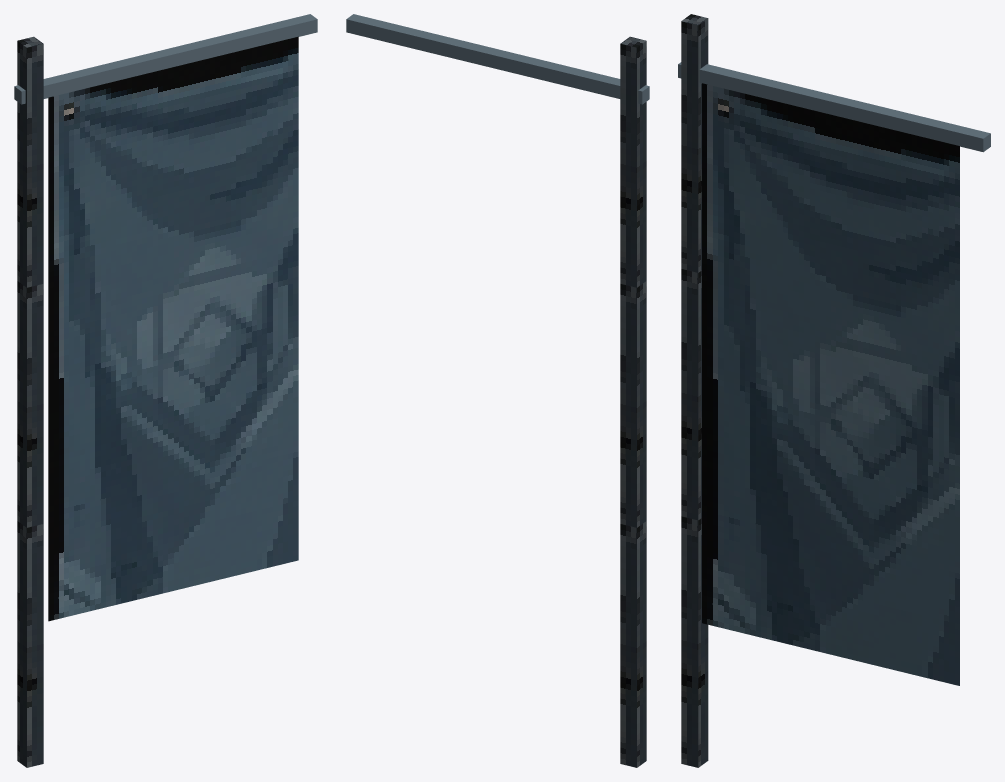
Rendered from street_banner.glb.
3 renders of one model, left to right at view 1: azimuth 30°, elevation 25°; view 2: azimuth 150°, elevation 25°; view 3: azimuth 330°, elevation 25°, orthographic. The views are drawn at different scales.
Visible parts, largest first — view 1: street_banner; view 2: street_banner; view 3: street_banner.
Boxes of the visible parts, x1=… form: street_banner: x1=14, y1=14, x2=317, y2=767; street_banner: x1=346, y1=14, x2=649, y2=767; street_banner: x1=678, y1=14, x2=990, y2=767.
Bounding box in the file's own units: 1.42 × 3.3 × 0.085.
3 materials, 2 textured.
